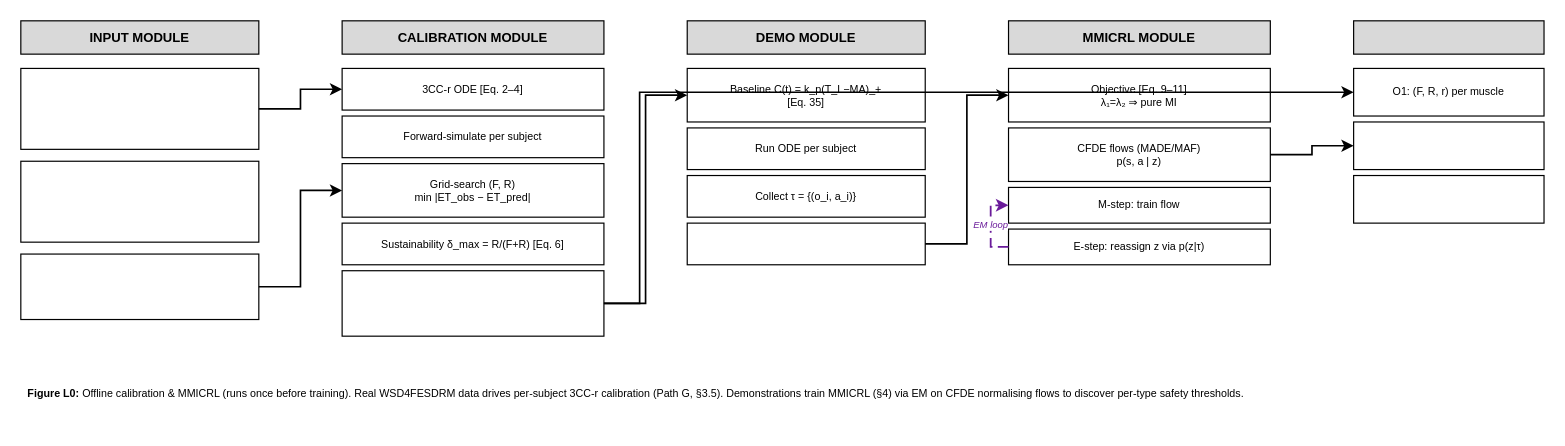
Image size: 1565x446. Some labels were removed from this diagram. The centre of each missing label's shape, as x and y in pixels:
Dataset • WSD4FESDRM • 34 subjects • Zenodo 8415066: (x=139, y=108)
O2: θ_max(z) per type: (x=1448, y=145)
O3: Constraint net: (x=1448, y=198)
Observed • ET_obs per subject • %MVIC: (x=139, y=286)
OUTPUT: (x=1448, y=37)
Output: (F, R, r) per muscle Shoulder · Ankle · Knee Elbow · Trunk · Grip: (x=472, y=303)
Output: Demo buffer: (x=805, y=243)
Protocol • Shoulder rotation • Borg RPE 20 • 30–60% MVIC: (x=139, y=201)
